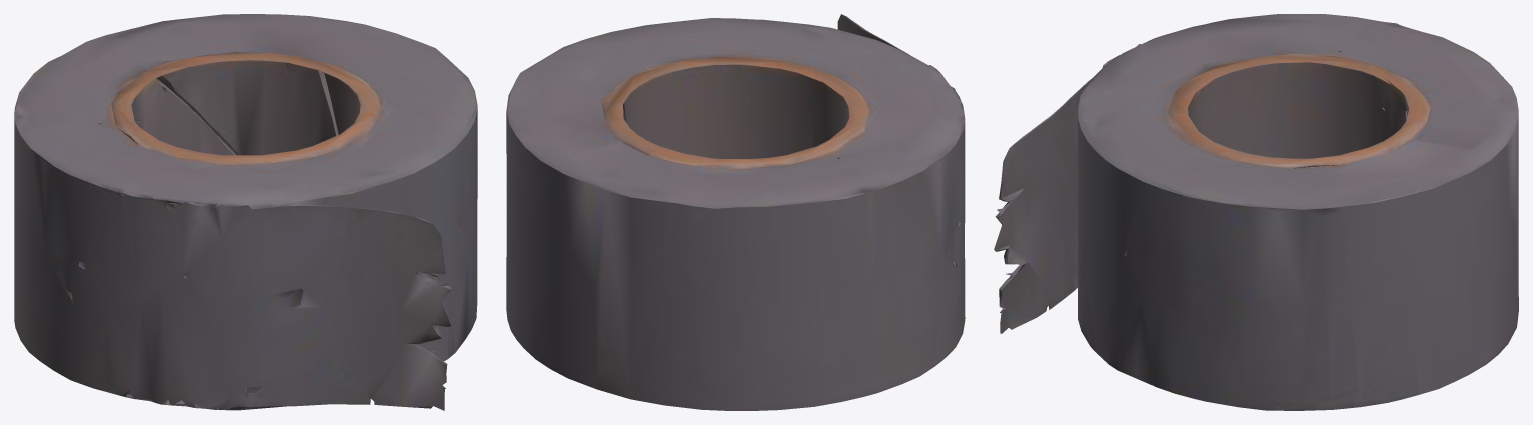
File: duct_tape_izolenta_idle.glb
The picture shows the model from 3 angles, left to right: view 1: azimuth 30°, elevation 25°; view 2: azimuth 150°, elevation 25°; view 3: azimuth 270°, elevation 25°; orthographic projection.
Visible parts, largest first — view 1: tripo_node_a9bd7526-6e97-4390-90bc-c831bc677285; view 2: tripo_node_a9bd7526-6e97-4390-90bc-c831bc677285; view 3: tripo_node_a9bd7526-6e97-4390-90bc-c831bc677285.
Boxes of the visible parts, x1,y1,x2,y2 form: tripo_node_a9bd7526-6e97-4390-90bc-c831bc677285: (14, 14, 477, 410); tripo_node_a9bd7526-6e97-4390-90bc-c831bc677285: (506, 14, 965, 410); tripo_node_a9bd7526-6e97-4390-90bc-c831bc677285: (994, 14, 1518, 410).
Bounding box in the file's own units: 0.2025 × 0.1001 × 0.2295.
Materials: 1 (1 with a texture image).
